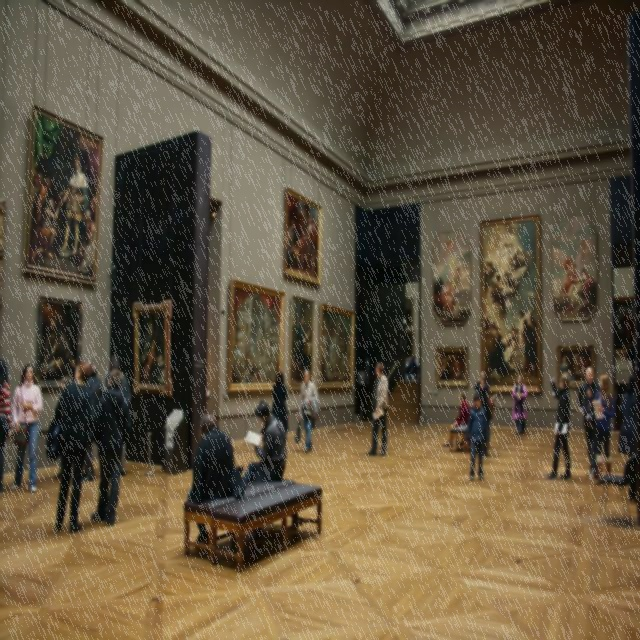pessoa: (6, 94, 186, 404), (428, 210, 640, 393), (212, 168, 360, 396), (52, 360, 97, 535), (88, 366, 130, 528), (187, 410, 237, 546), (7, 360, 45, 494), (238, 399, 288, 490), (104, 354, 132, 478), (586, 372, 616, 484), (79, 360, 105, 484), (544, 370, 572, 478), (578, 365, 602, 477), (464, 390, 490, 481), (366, 359, 390, 456), (53, 374, 73, 481), (297, 368, 320, 454), (0, 358, 13, 495), (618, 374, 640, 454), (472, 377, 492, 457), (442, 390, 470, 446), (270, 370, 288, 436), (511, 373, 528, 435), (402, 353, 422, 384), (474, 370, 491, 395)
